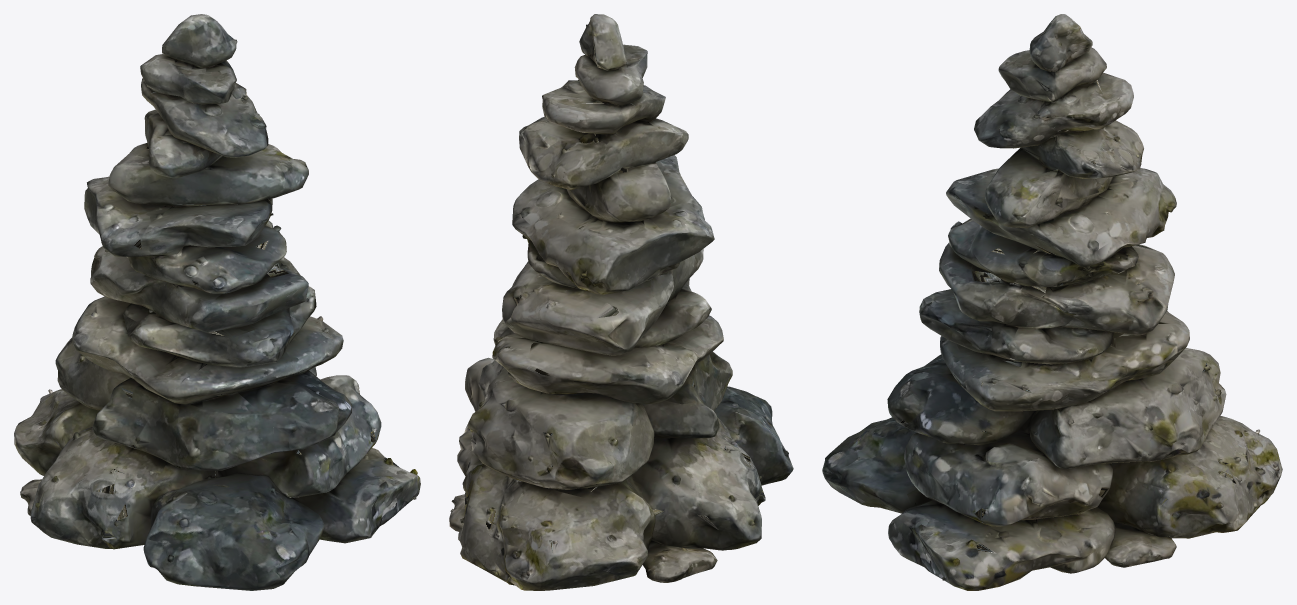
Rendered from cairn.glb.
3 renders of one model, left to right at view 1: azimuth 30°, elevation 25°; view 2: azimuth 150°, elevation 25°; view 3: azimuth 270°, elevation 25°, orthographic.
Parts seen in each view (by area): view 1: cairn; view 2: cairn; view 3: cairn.
Part boxes in pixels (x1=…): cairn: x1=14, y1=14, x2=420, y2=590; cairn: x1=449, y1=14, x2=793, y2=590; cairn: x1=822, y1=14, x2=1282, y2=590.
Bounding box in the file's own units: 4.26 × 6 × 5.04.
1 material, 1 textured.
